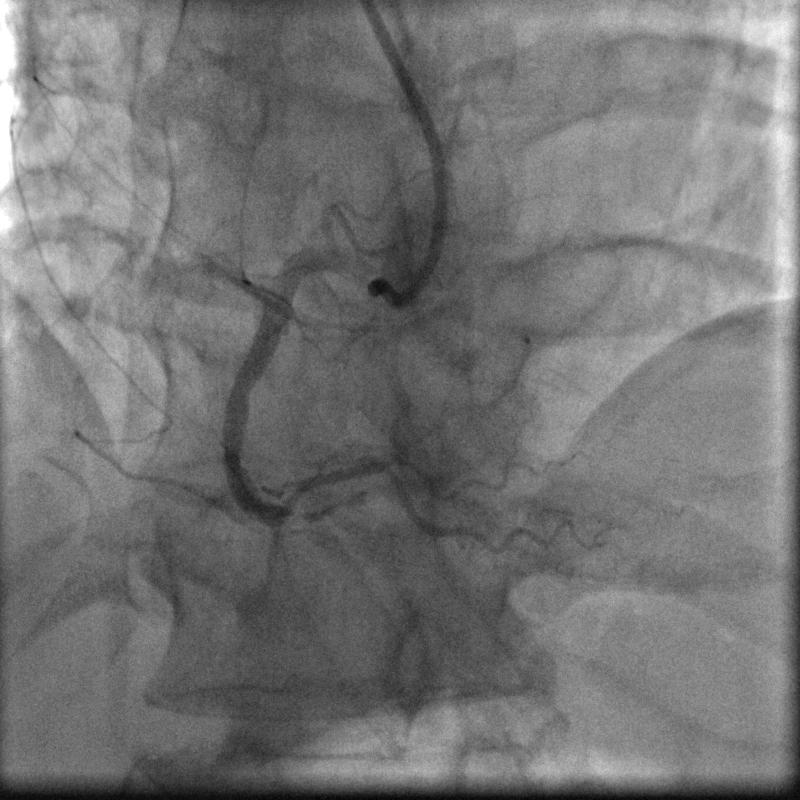Stenosis: (273, 500, 332, 526)
